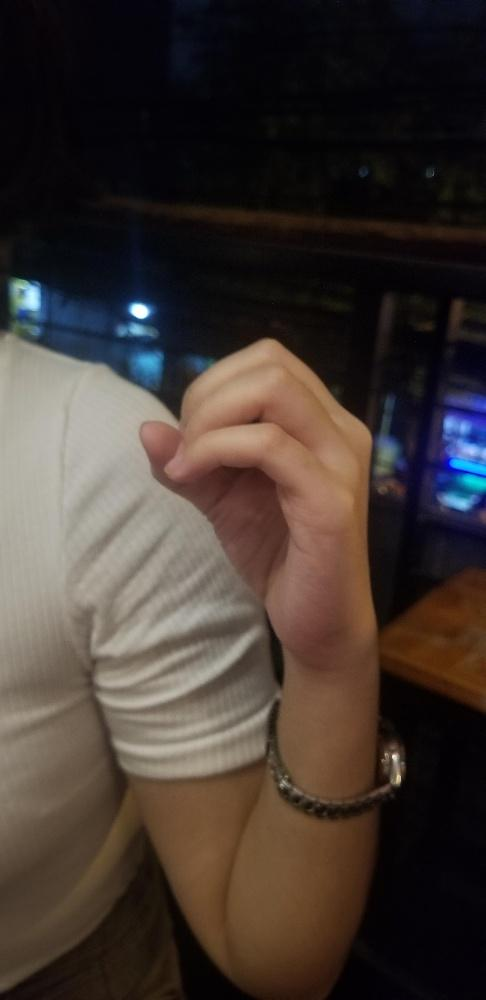o: (135, 335, 374, 638)
